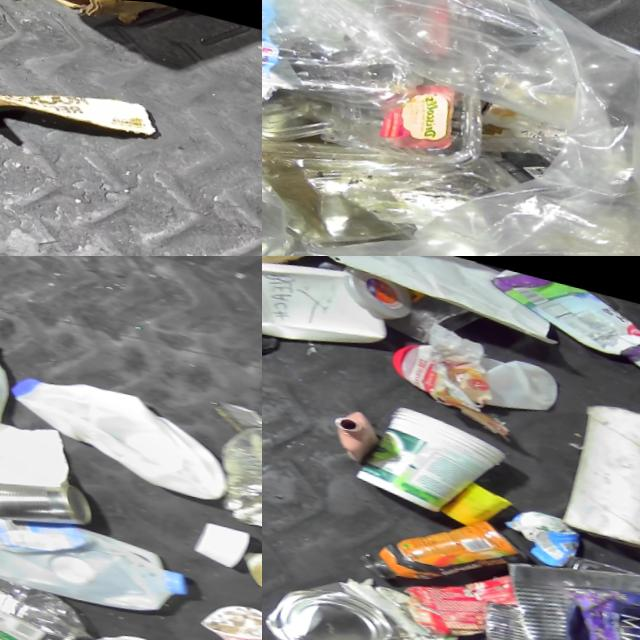can: (481, 524, 640, 640), (262, 551, 466, 640), (204, 407, 262, 553), (0, 460, 95, 542), (470, 592, 534, 640), (230, 538, 262, 595)
milk_jug: (0, 358, 236, 505), (0, 496, 196, 629), (262, 256, 394, 363), (0, 332, 21, 469)
non_white_jug: (537, 558, 640, 640)
plastic_bottle: (632, 491, 640, 572)
